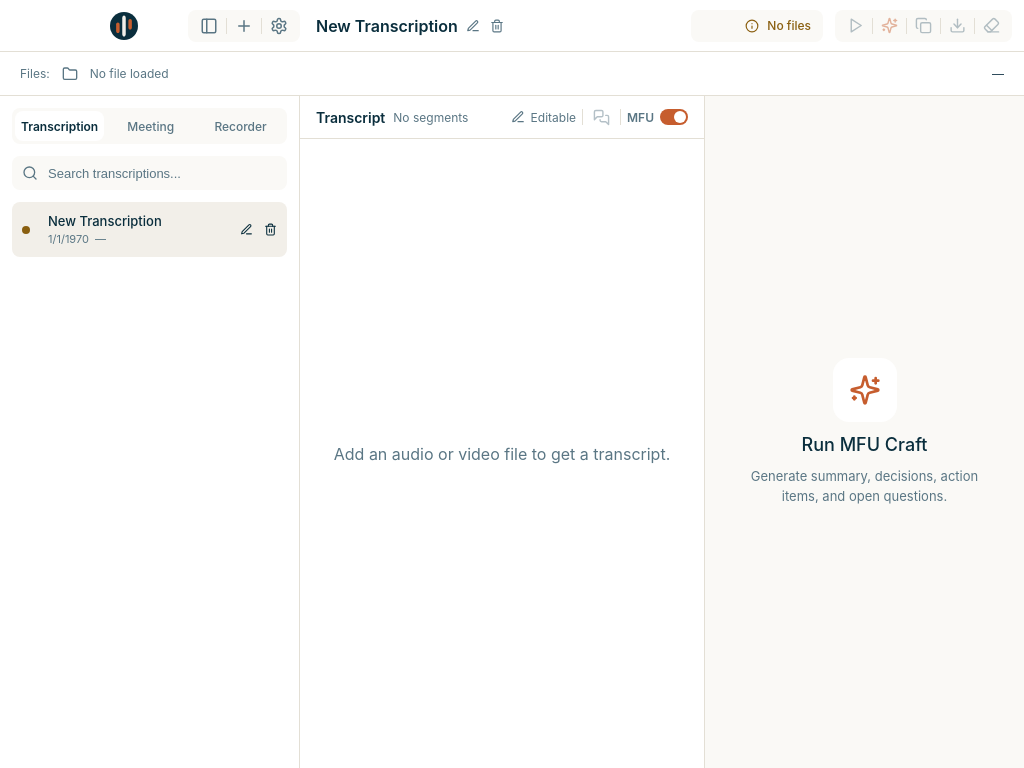
App — transcript editing › surfaces an auto-save failure without discarding the edit
Click the button named "Choose file" at (70, 74), box [58,62,82,86]
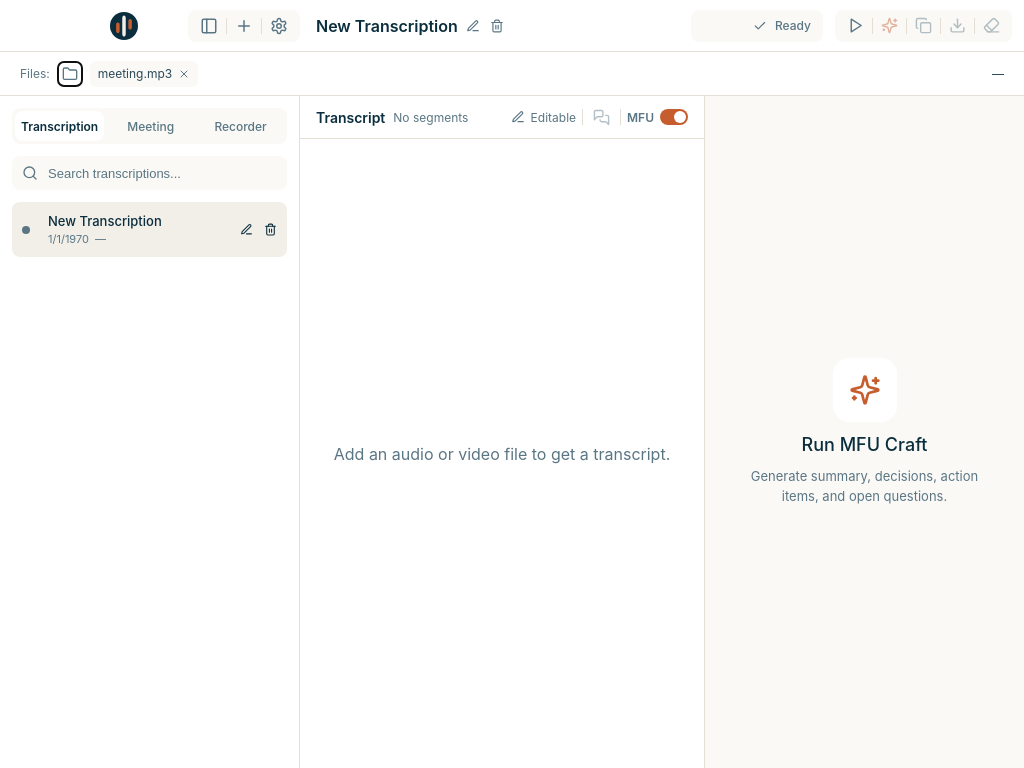
expect the button named "Transcribe" is enabled: met
Click the button named "Transcribe" at (856, 26), box [843,13,868,38]
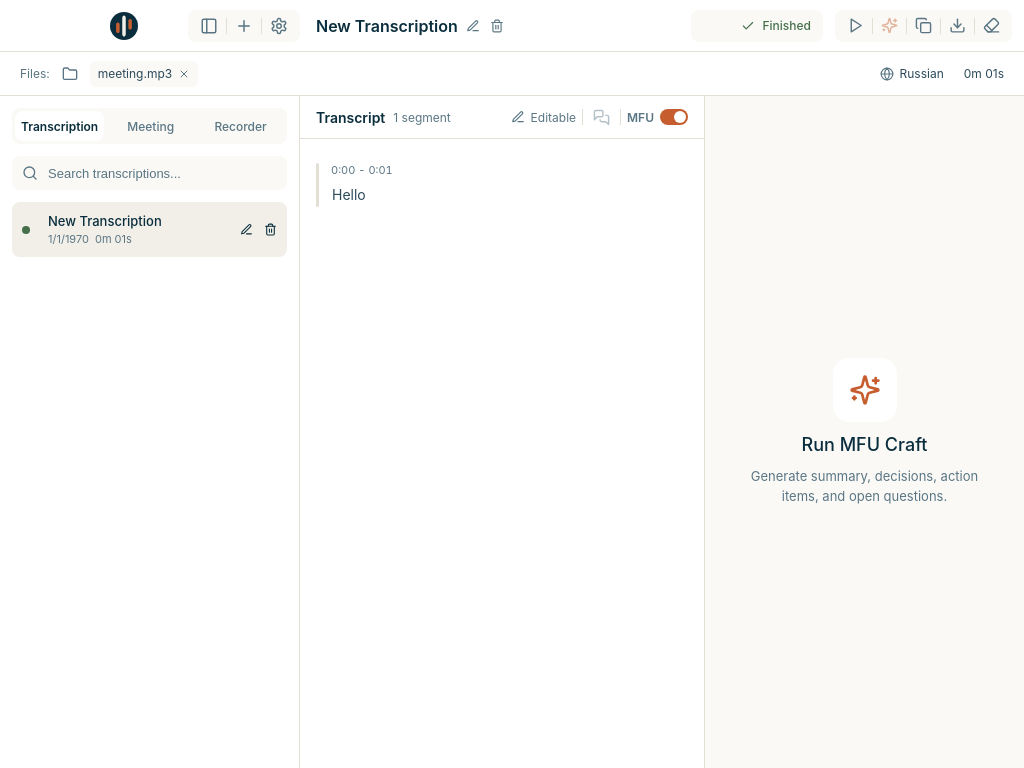
Click the field named "Transcript segment 1" at (349, 194), box [332,186,366,203]
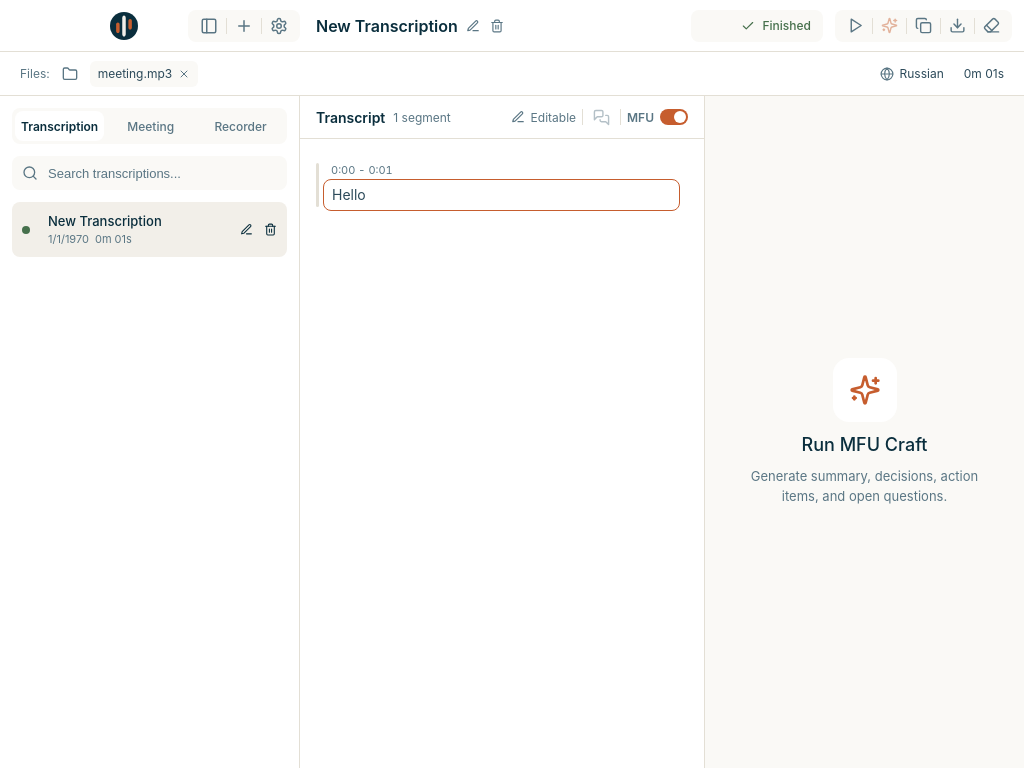
Replace the text in the text box showing "Hello" with "Hi there" at (502, 195), box [323,179,680,211]
Wait 500 ms
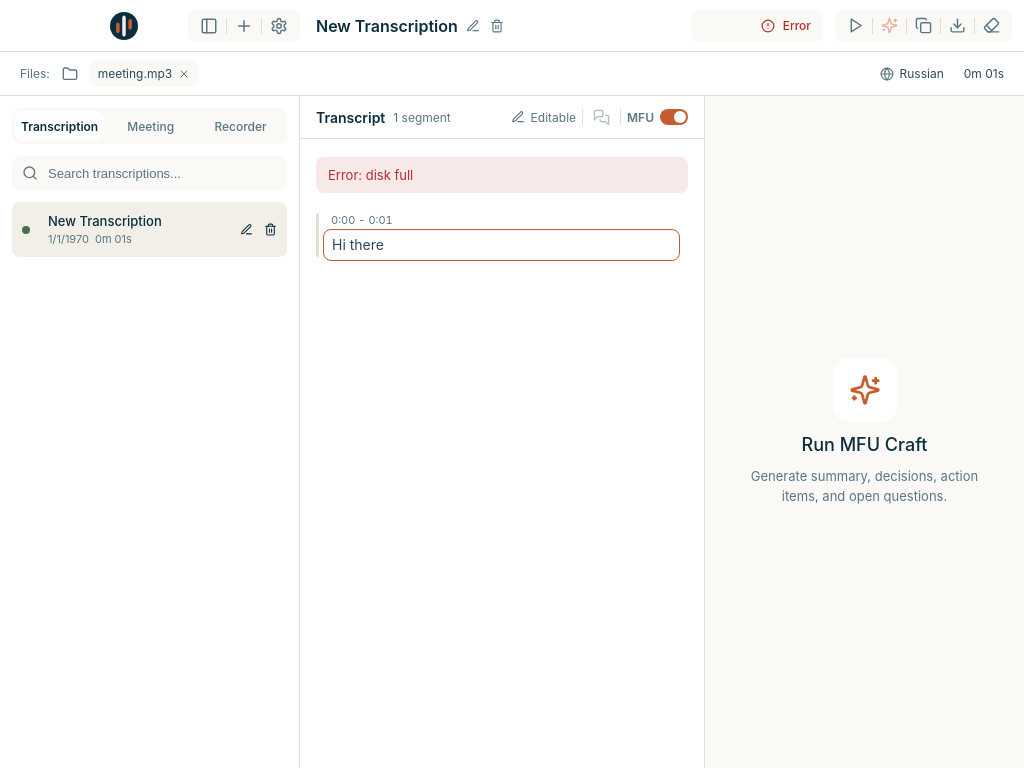
expect the text "Error: disk full" is shown: met, box [316,157,688,193]
